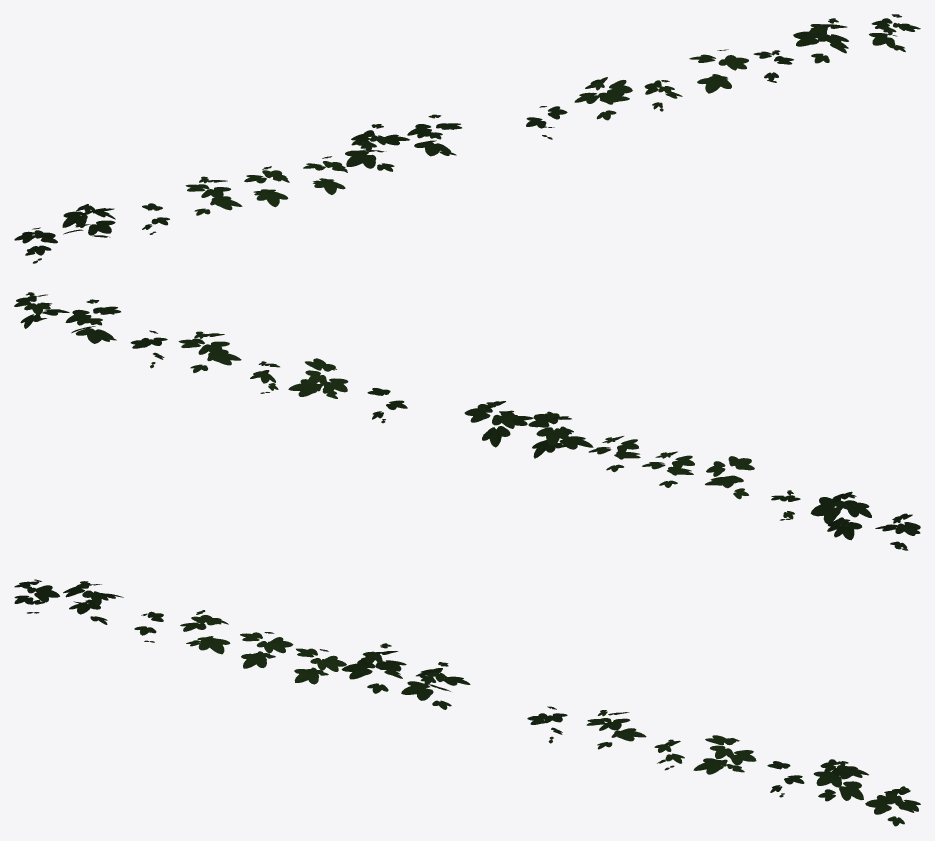
The model's file is ROW_09_SEG3_foliage.dae.
3 views of the same model, one above another, from view 1: azimuth 30°, elevation 25°; view 2: azimuth 150°, elevation 25°; view 3: azimuth 330°, elevation 25° (orthographic). The views are drawn at different scales.
Parts seen in each view (by area): view 1: ROW_09_SEG3_foliage; view 2: ROW_09_SEG3_foliage; view 3: ROW_09_SEG3_foliage.
Boxes of the visible parts, left/top/right/bottom form: ROW_09_SEG3_foliage: left=14, top=14, right=920, bottom=263; ROW_09_SEG3_foliage: left=14, top=292, right=920, bottom=550; ROW_09_SEG3_foliage: left=14, top=579, right=920, bottom=826.
Size of the model in its own units: 4.81 by 0.3387 by 0.2607.
